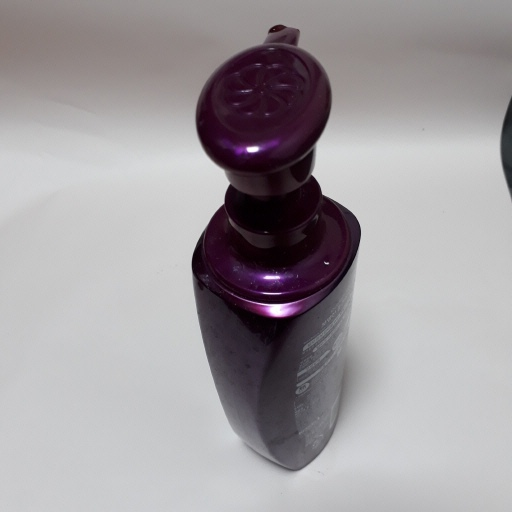Plastic_3: (182, 24, 372, 473)
